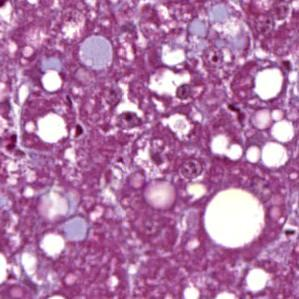steatosis: (201, 186, 268, 251)
